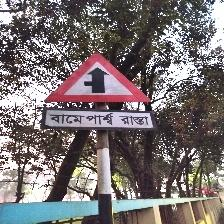Side-road-left: (42, 51, 155, 133)
